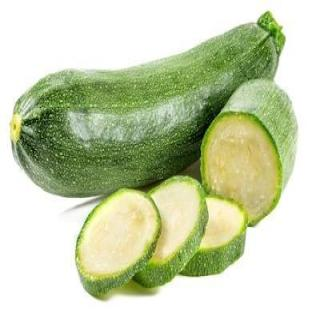Zucchini: (11, 12, 284, 196), (201, 80, 297, 225), (76, 189, 160, 296), (134, 177, 207, 287), (182, 197, 247, 275)
